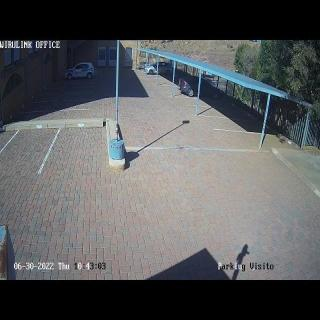car: (179, 75, 221, 100), (64, 63, 94, 80), (145, 61, 172, 75)
